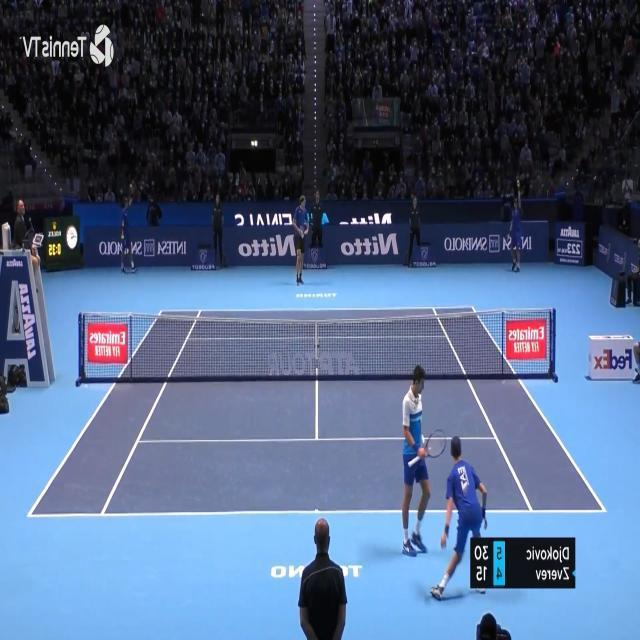court: (26, 307, 608, 519)
net: (76, 311, 558, 384)
player: (401, 364, 446, 558)
